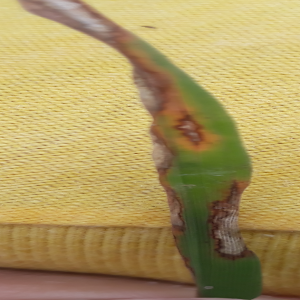Rice_Blast: (201, 179, 253, 283), (46, 1, 126, 46), (147, 177, 200, 243), (116, 54, 169, 114), (171, 103, 227, 152), (142, 121, 181, 174)
